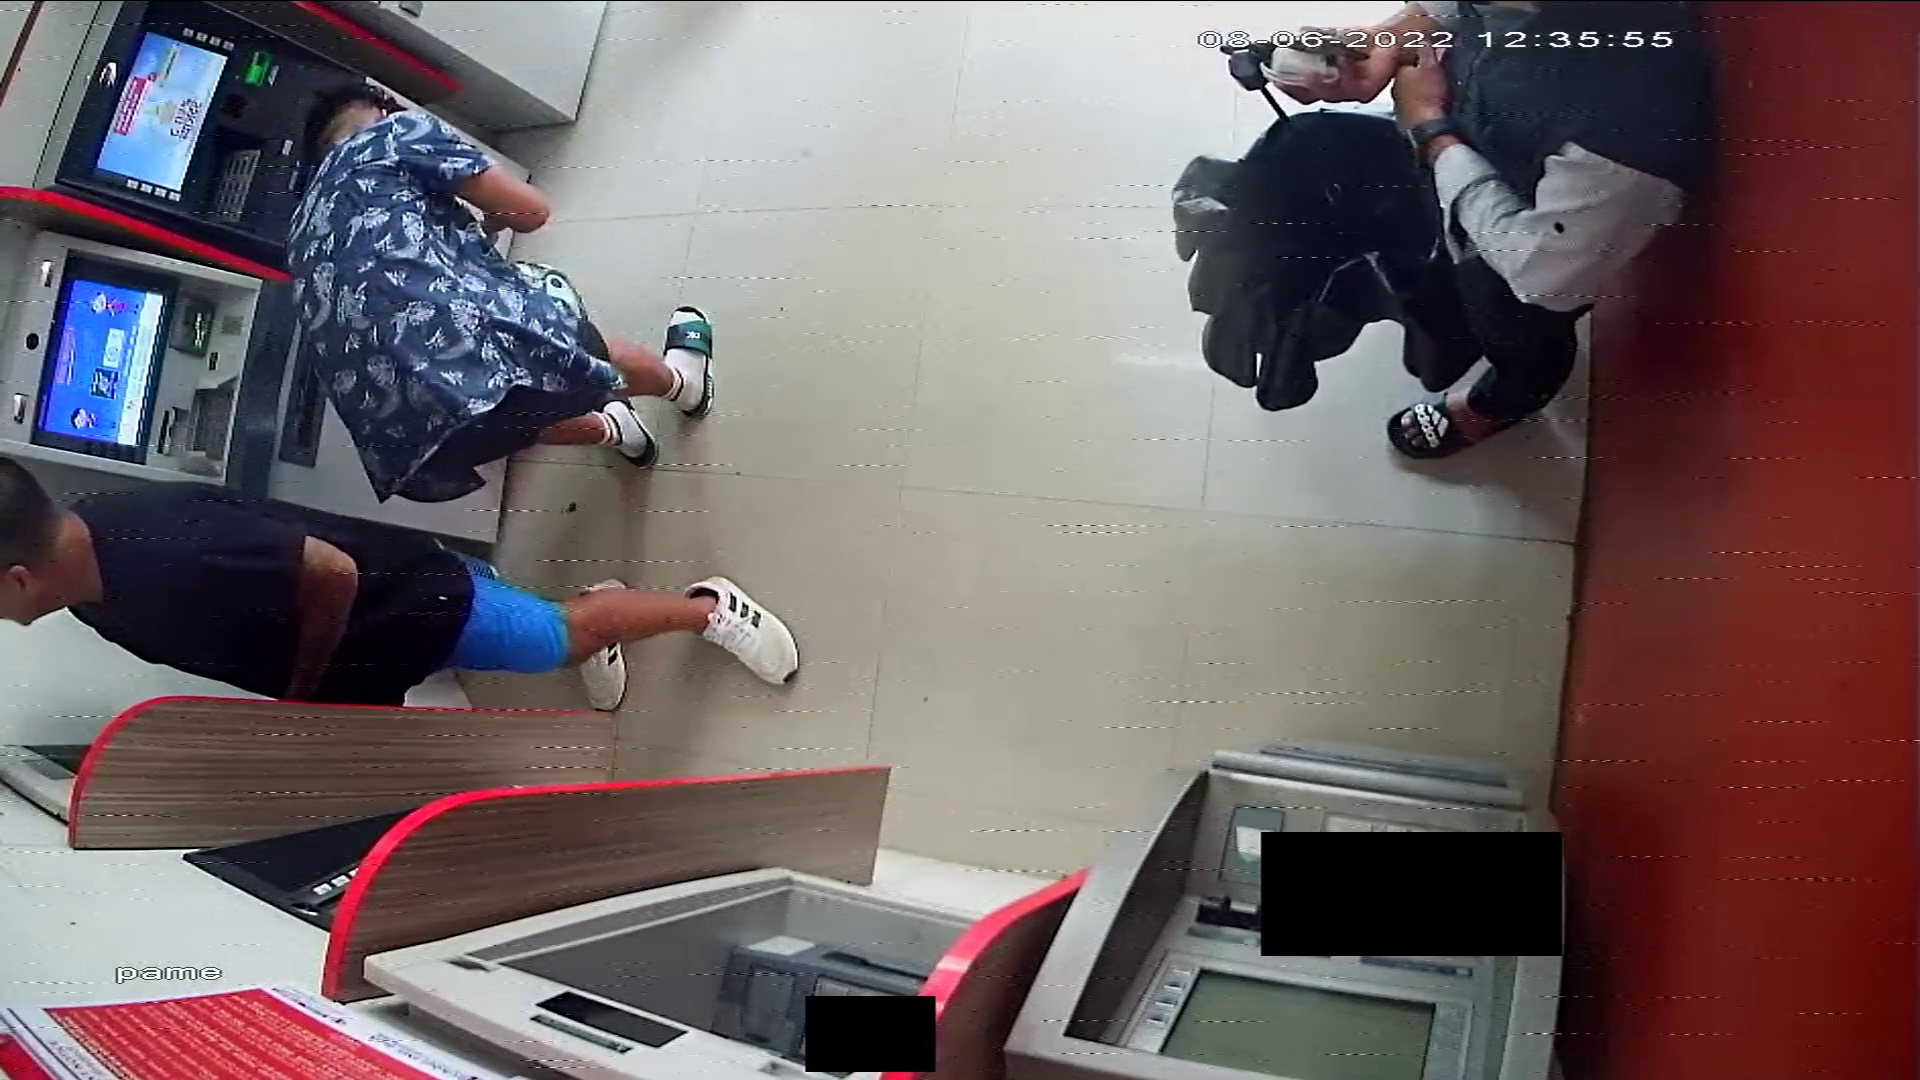person: (1275, 1, 1709, 464), (1, 462, 807, 706), (295, 86, 717, 510)
